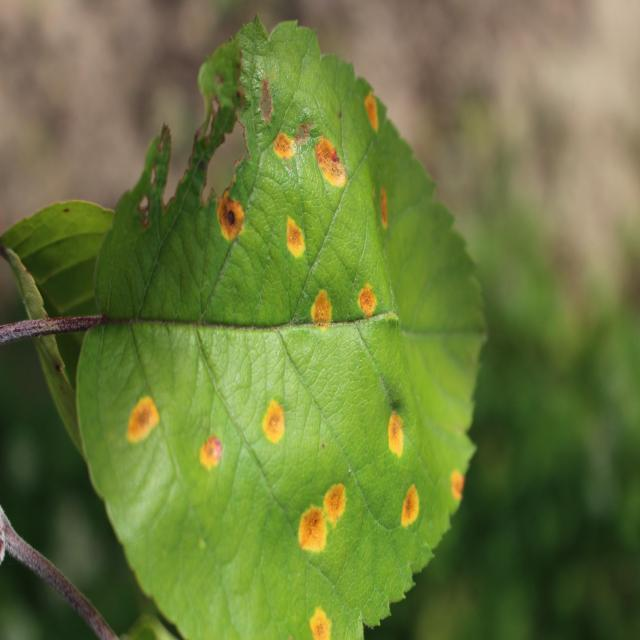Rust: (272, 495, 330, 569), (119, 391, 175, 454), (283, 204, 326, 280), (309, 120, 350, 198), (252, 386, 292, 458), (364, 172, 398, 255), (326, 469, 358, 552), (378, 391, 412, 469), (358, 61, 390, 141), (259, 114, 299, 176), (213, 193, 244, 270), (394, 474, 428, 543), (304, 282, 336, 349), (197, 424, 230, 486), (299, 595, 339, 640), (350, 268, 377, 334), (446, 448, 468, 517)
